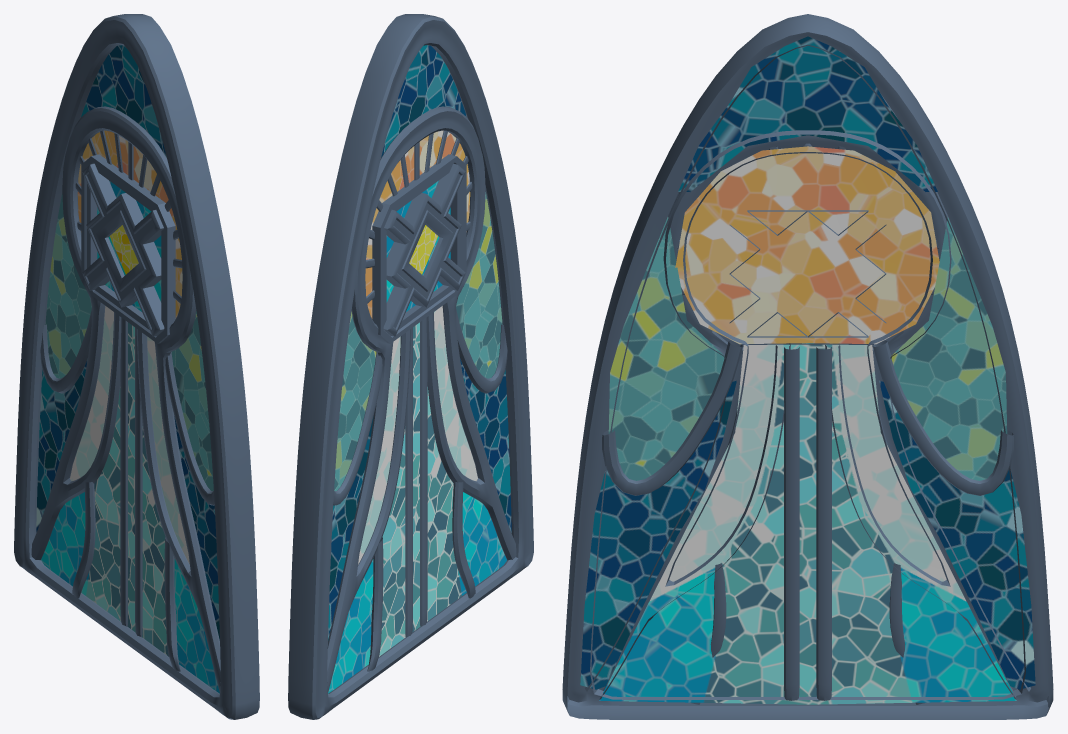
File: Stained Glass.fbx
3 renders of one model, left to right at view 1: azimuth 30°, elevation 25°; view 2: azimuth 150°, elevation 25°; view 3: azimuth 270°, elevation 25°, orthographic. The views are drawn at different scales.
Parts seen in each view (by area): view 1: WindowCombined.003; view 2: WindowCombined.003; view 3: WindowCombined.003.
Part boxes in pixels (x1,y1,x2,y2): WindowCombined.003: [14, 14, 259, 719]; WindowCombined.003: [288, 14, 533, 719]; WindowCombined.003: [562, 14, 1053, 719].
Bounding box in the file's own units: 132 × 2497 × 1600.
